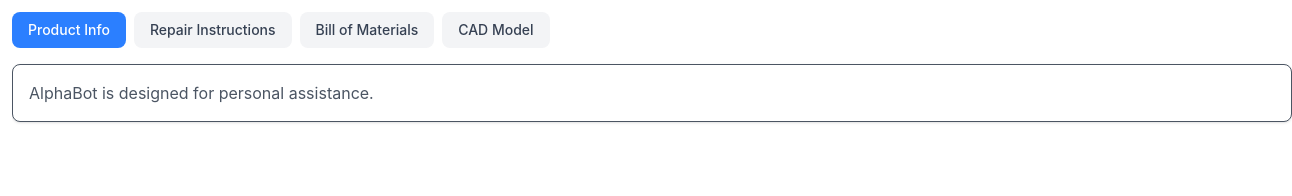
Tabs Component › displays Bill of Materials when the corresponding tab is clicked
The image size is (1292, 196).
# Click on the Bill of Materials tab
What coordinates should you click on to do the following:
click the button "Bill of Materials"
I would click on:
 (367, 30)
Its box is [300,12,434,48].
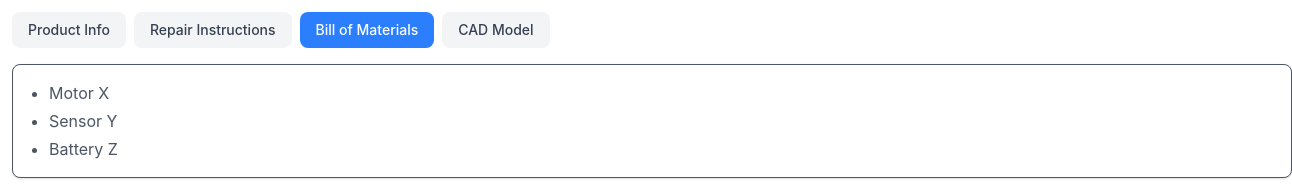
expect the list item "Motor X" is shown: met, box [49,83,109,103]
expect the list item "Sensor Y" is shown: met, box [49,111,118,131]
expect the list item "Battery Z" is shown: met, box [49,139,118,159]
